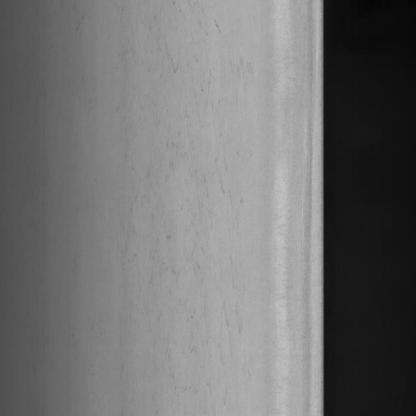silk_spot: (126, 21, 235, 365)
